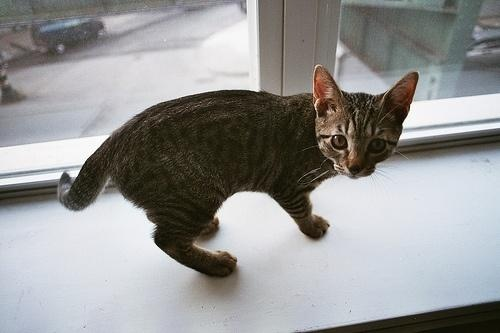cat: (57, 65, 421, 277)
